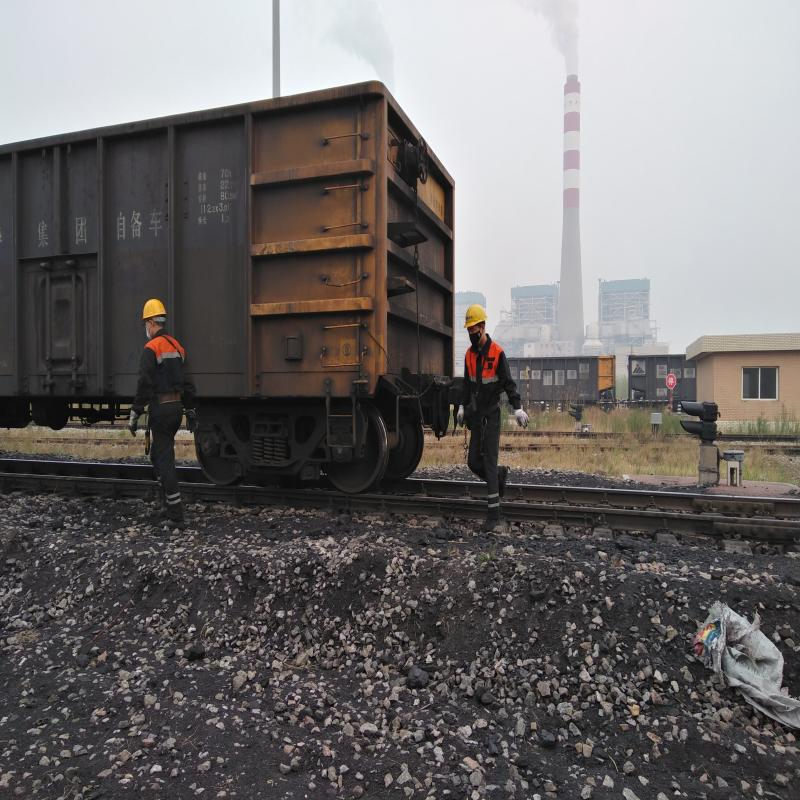train: (37, 130, 425, 476)
